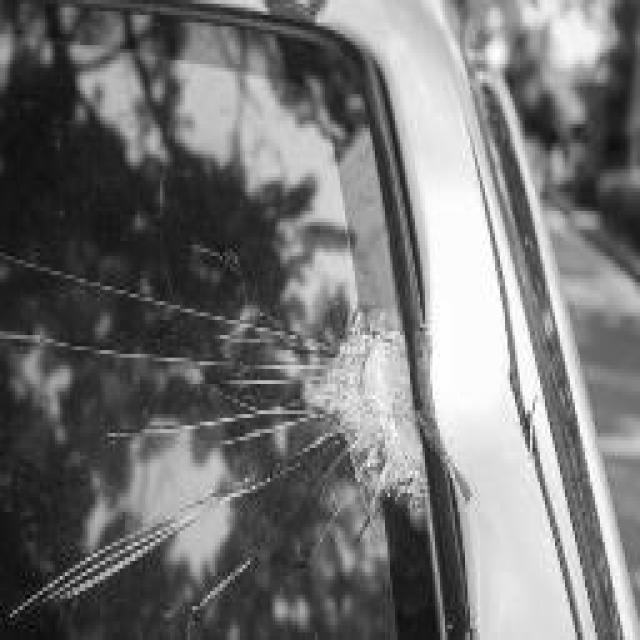Windshield: (2, 4, 470, 617)
